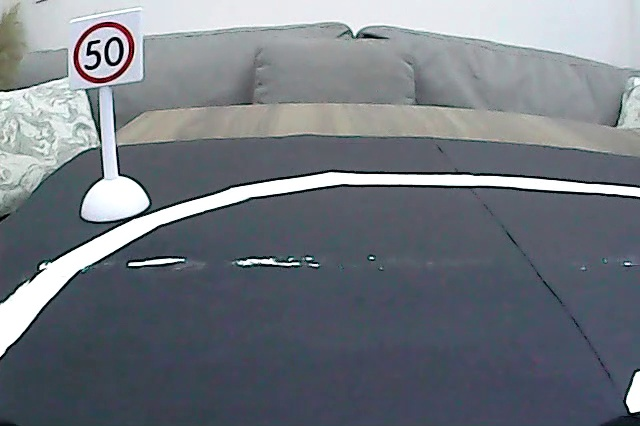speed limit 50: (70, 18, 137, 87)
